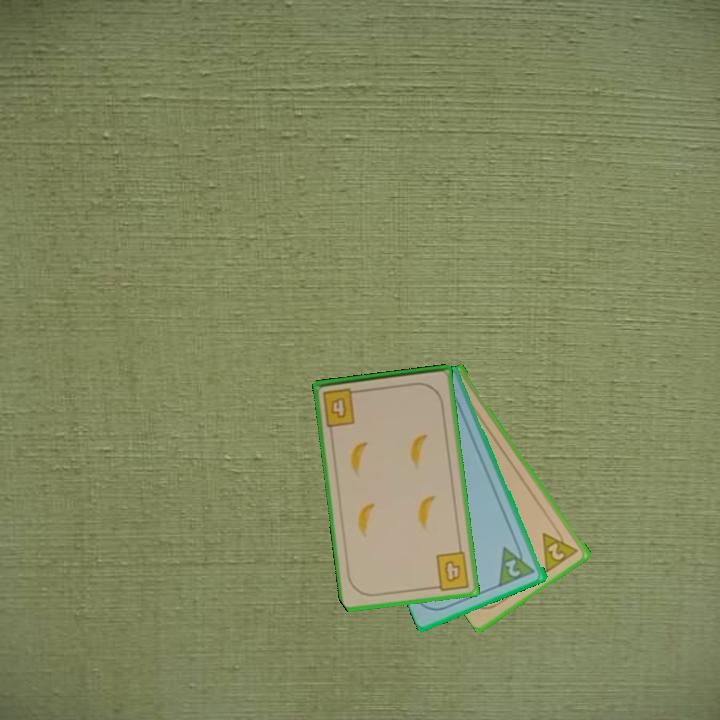2p: (539, 523, 581, 575), (496, 539, 538, 589)
4b: (319, 384, 363, 429), (429, 548, 472, 593)
